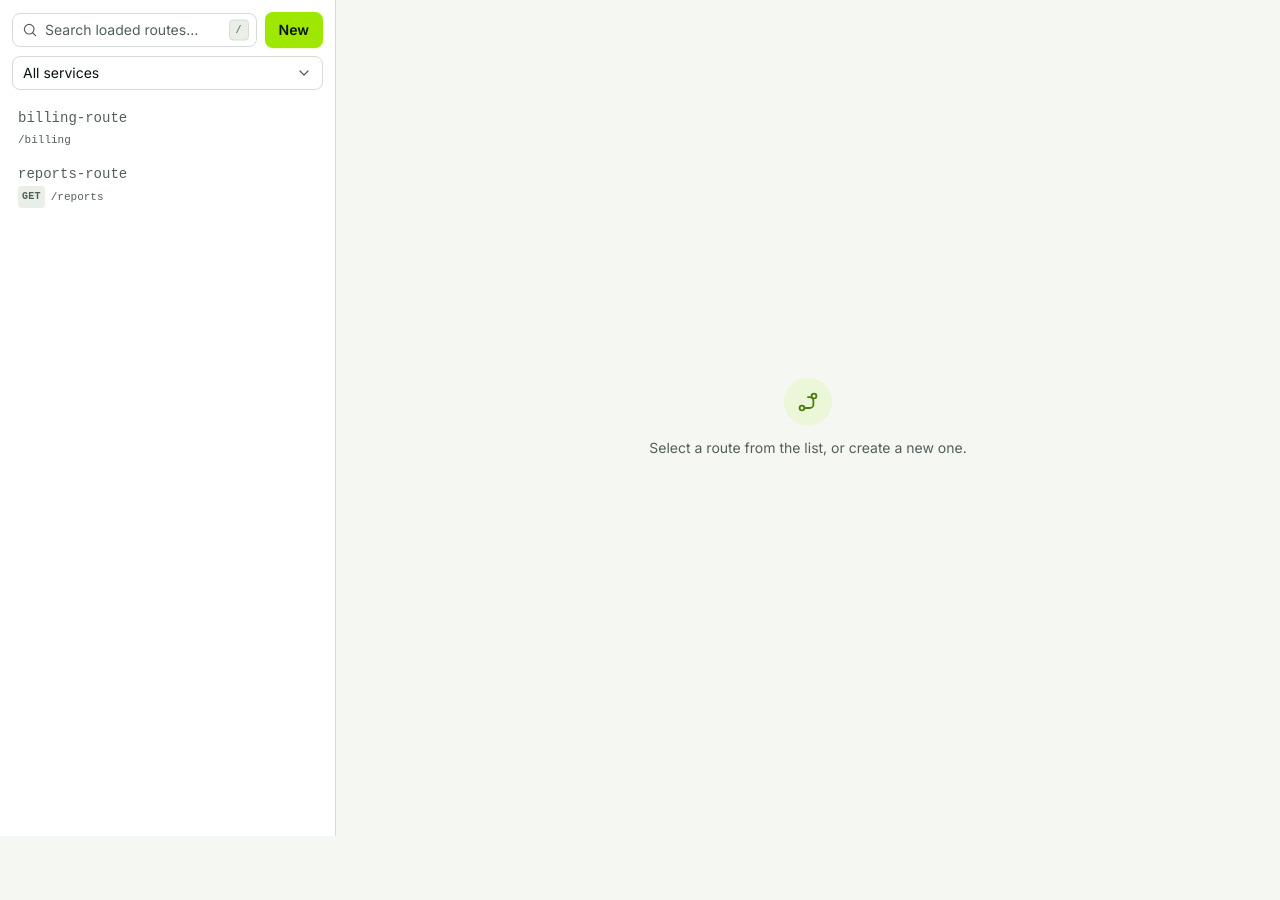
Test case: LiveRoutesView › blocks Save when a selected protocol has none of its required fields
The width and height of the screenshot is (1280, 900).
Click the button "New" at {"x": 294, "y": 30}, box [264,12,323,48]
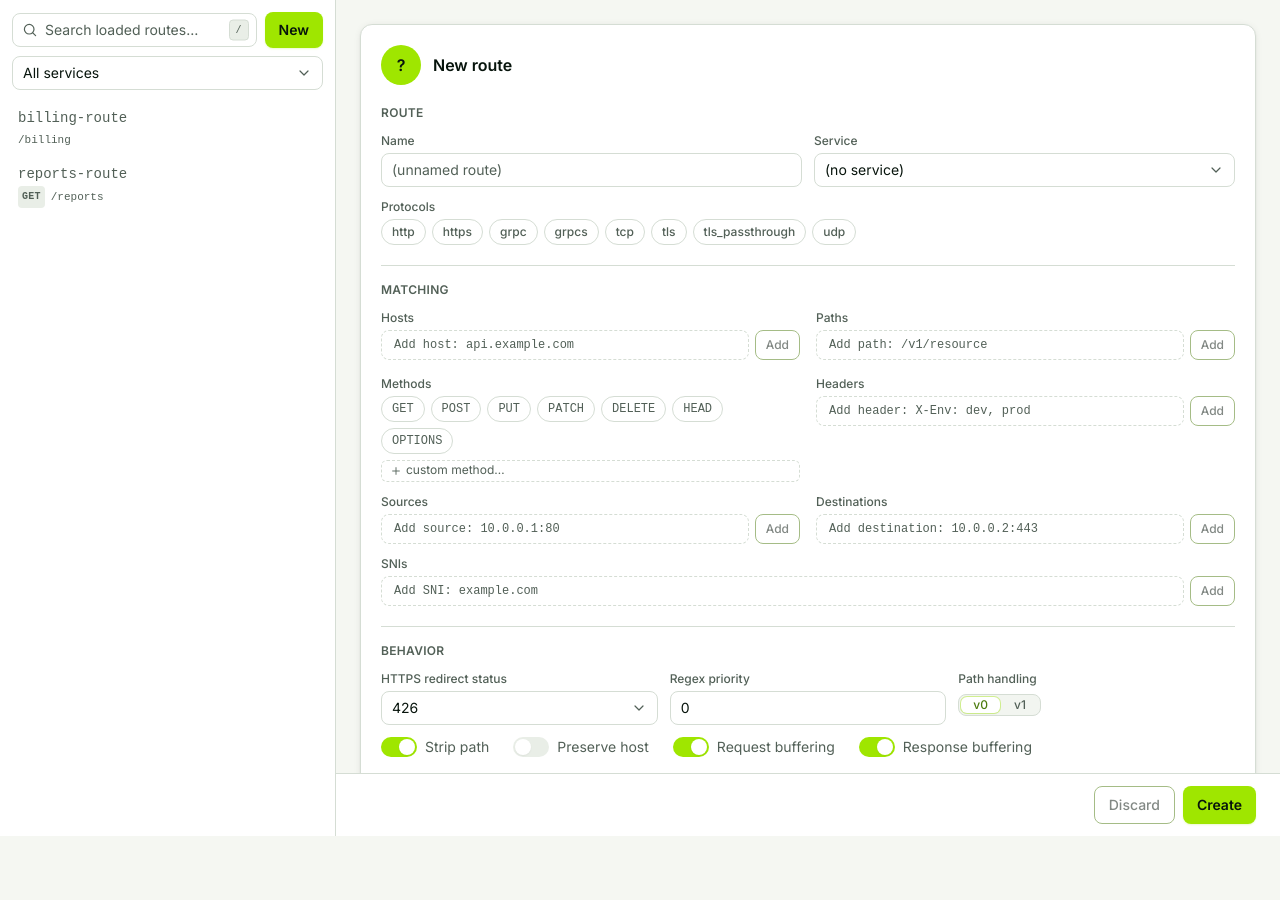
Click the button "tcp" at {"x": 625, "y": 232}, box [605,219,645,245]
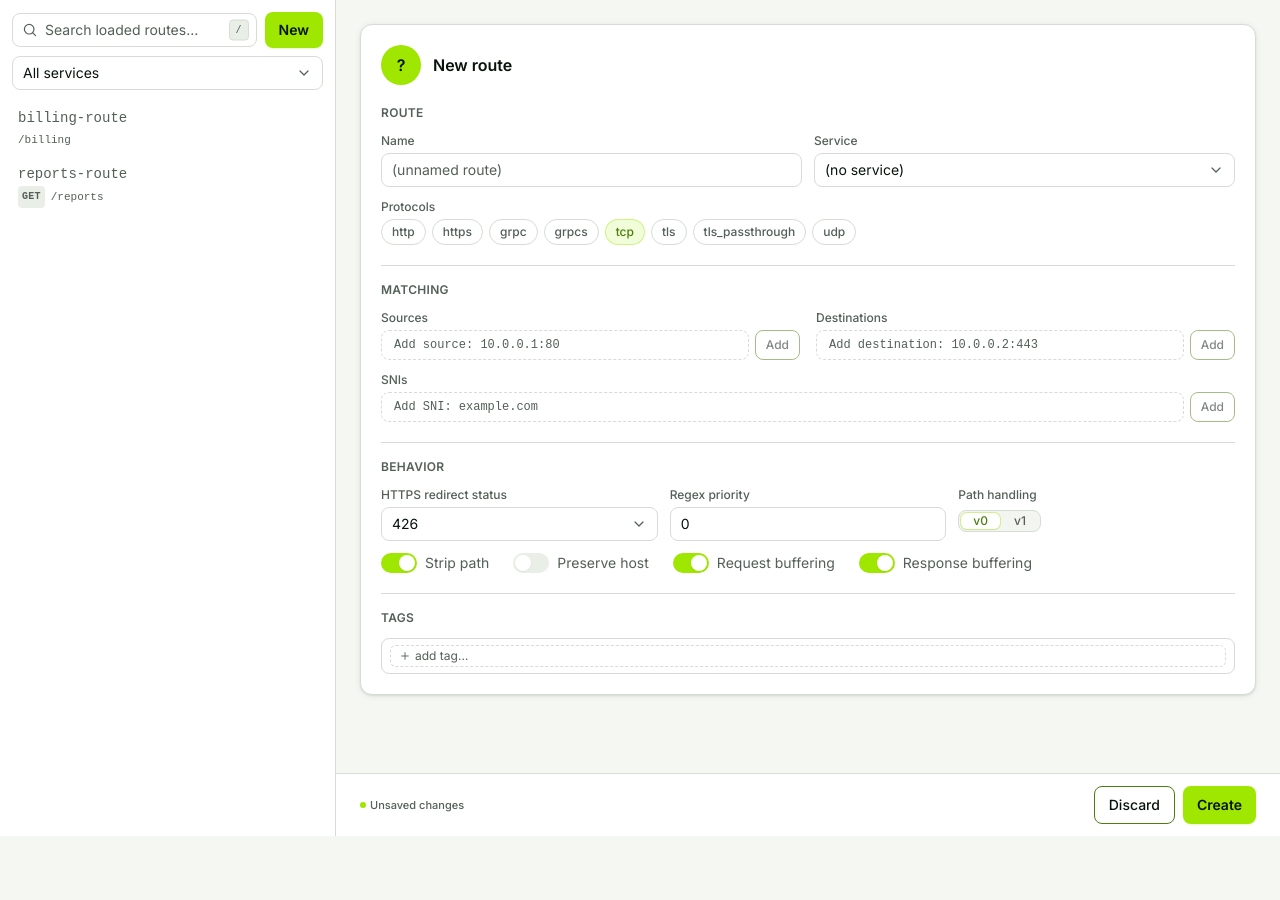
Click the button "Create" at {"x": 1219, "y": 805}, box [1183,786,1256,824]
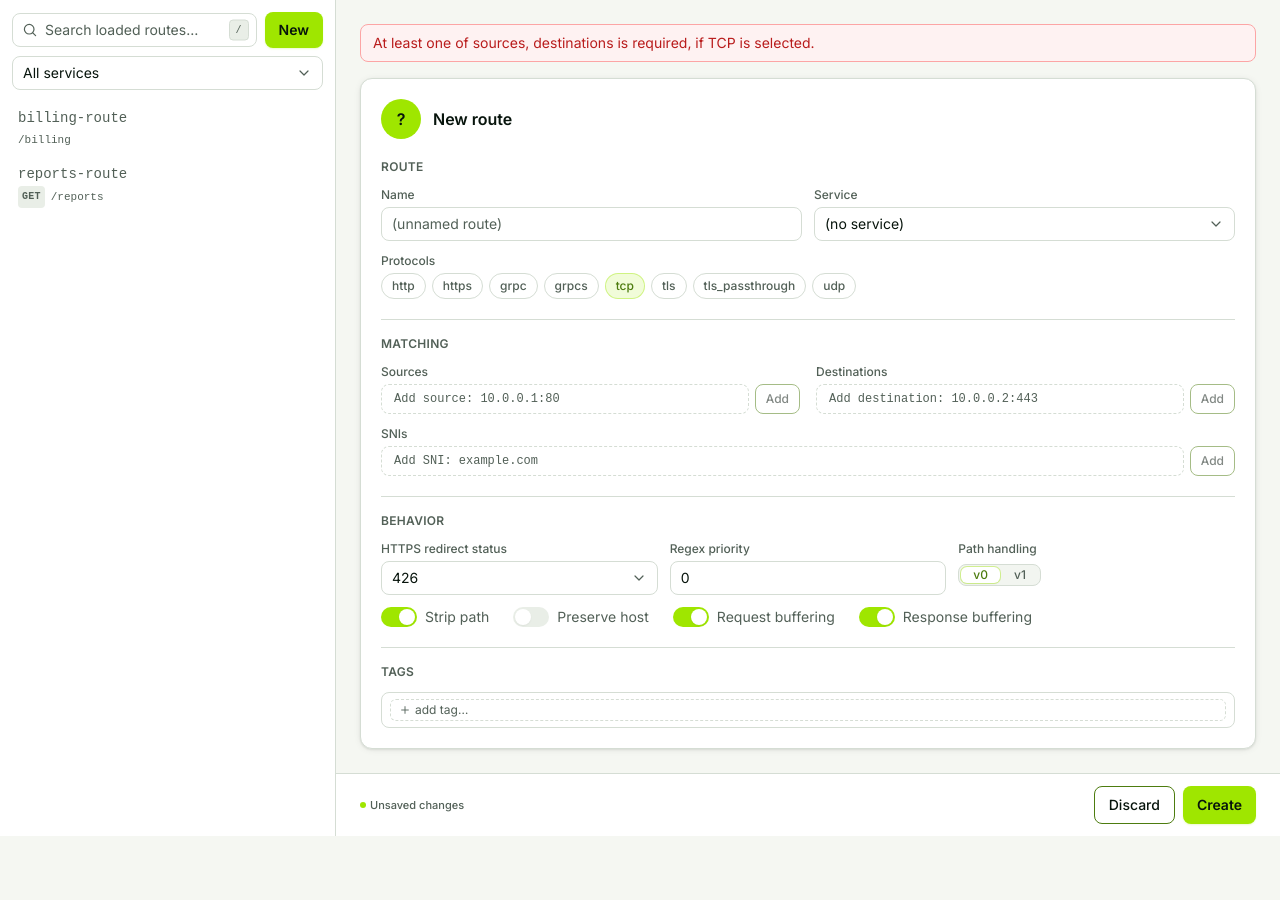
Check: the message "At least one of sources, destinations is required, if TCP is selected." is shown, box [360,24,1256,62]
